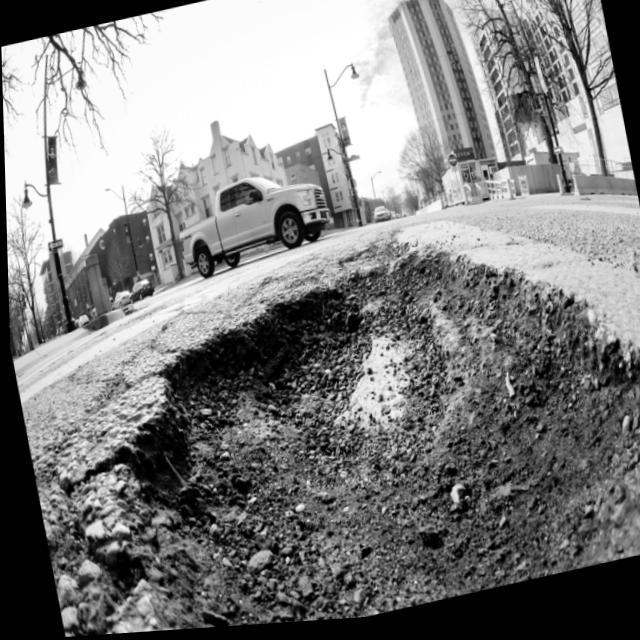pathole: (21, 186, 640, 637)
